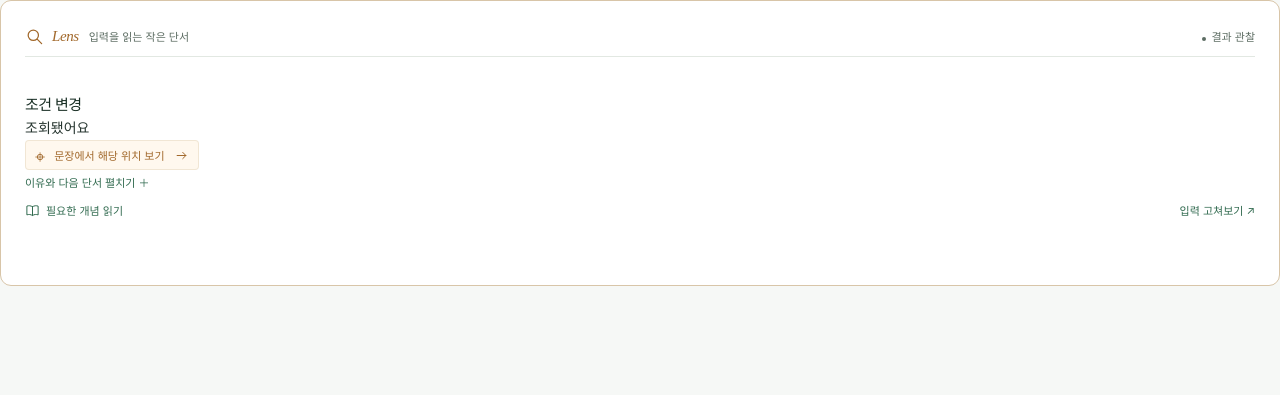
Test: reveals Normal details only when requested
expect the text "조건 비교" is not shown: met
What coordinates should you click on to do the following:
click the button "이유와 다음 단서 펼치기 ＋"
I would click on:
 (87, 183)
Its box is [25, 174, 150, 192].
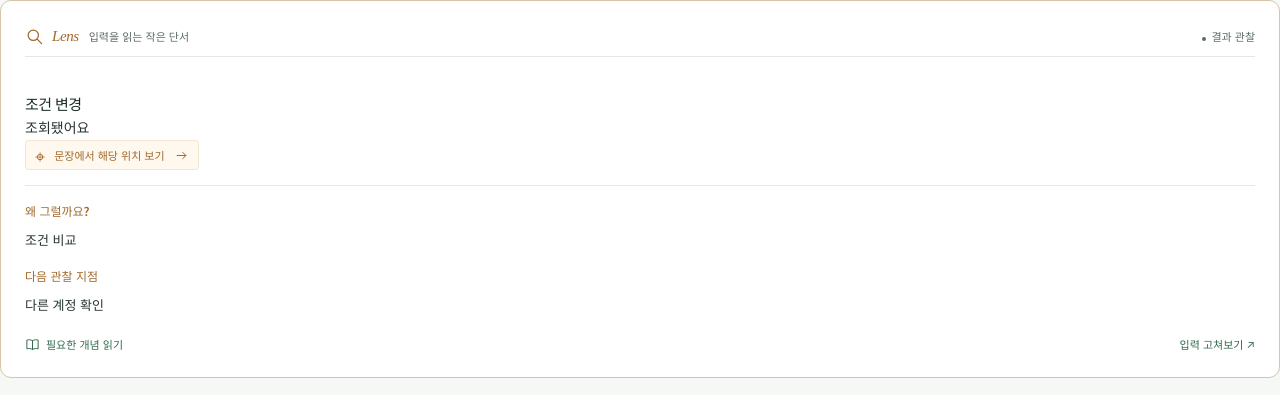
expect the text "조건 비교" is shown: met, box [25, 230, 76, 249]
